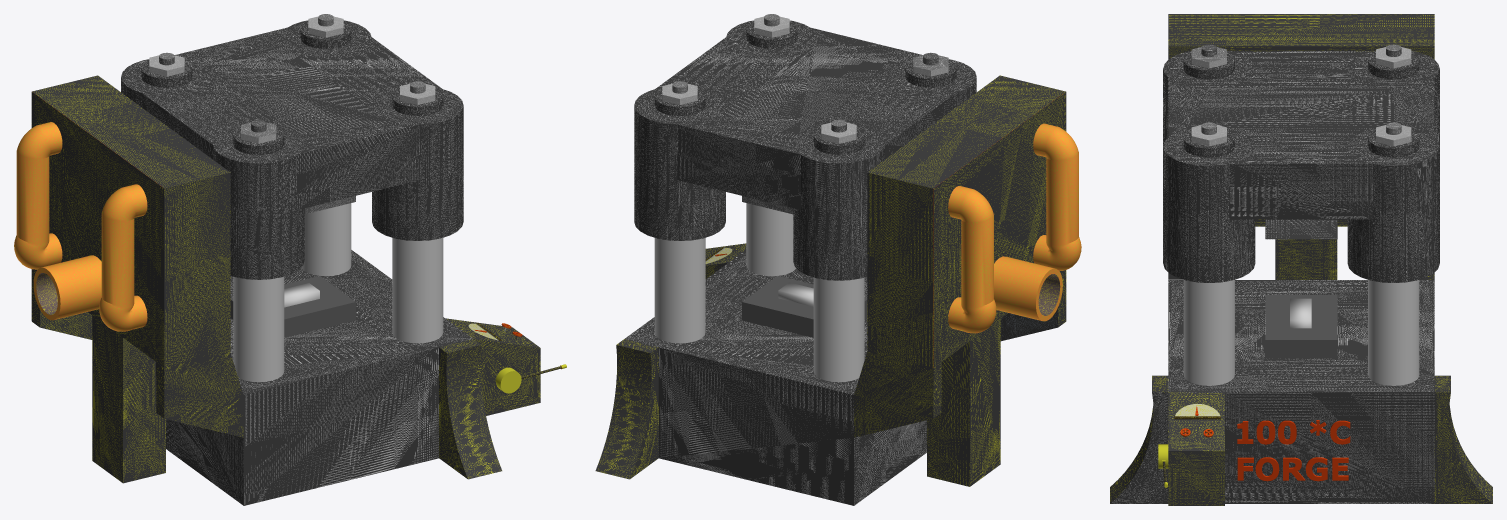
The model's file is press f.dae.
3 views of the same model, side by side, from view 1: azimuth 30°, elevation 25°; view 2: azimuth 150°, elevation 25°; view 3: azimuth 270°, elevation 25° (orthographic).
Visible parts, largest first — view 1: SketchUp (×19); view 2: SketchUp (×23); view 3: SketchUp (×20).
Boxes of the visible parts, x1,y1,x2,y2 form: SketchUp (×19): (14, 20, 540, 505); SketchUp (×23): (595, 16, 1081, 505); SketchUp (×20): (1110, 14, 1492, 505).
Bounding box in the file's own units: 32.67 × 23.9 × 24.86.
